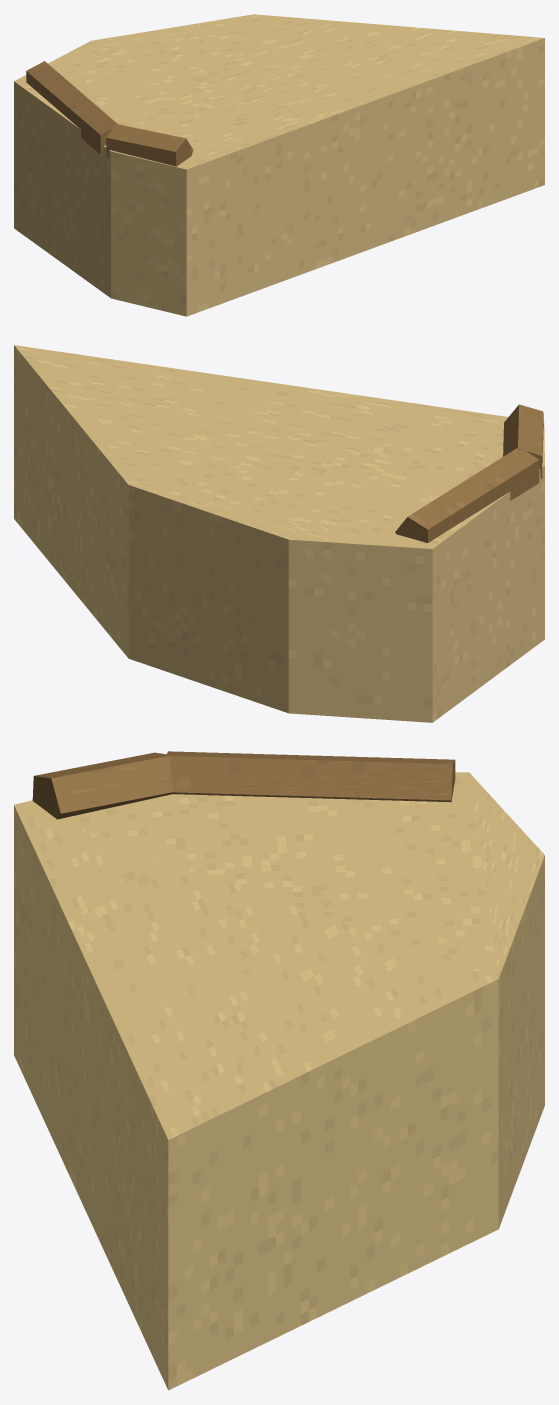
The model's file is pecorino_cheese.glb.
The picture shows the model from 3 angles, top to bottom: view 1: azimuth 30°, elevation 25°; view 2: azimuth 150°, elevation 25°; view 3: azimuth 270°, elevation 25°; orthographic projection. The views are drawn at different scales.
Visible parts, largest first — view 1: block_pecorino wedge, block_dark cheese rind 0, block_dark cheese rind 1; view 2: block_pecorino wedge, block_dark cheese rind 0, block_dark cheese rind 1; view 3: block_pecorino wedge, block_dark cheese rind 0, block_dark cheese rind 1.
Part boxes in pixels (<box>): block_pecorino wedge: <box>14,14,544,316</box>; block_dark cheese rind 0: <box>26,61,118,154</box>; block_dark cheese rind 1: <box>106,124,193,166</box>; block_pecorino wedge: <box>14,345,544,722</box>; block_dark cheese rind 0: <box>395,447,539,542</box>; block_dark cheese rind 1: <box>503,404,543,478</box>; block_pecorino wedge: <box>14,772,544,1390</box>; block_dark cheese rind 0: <box>166,751,455,802</box>; block_dark cheese rind 1: <box>32,752,173,819</box>.
Bounding box in the file's own units: 0.0756 × 0.0273 × 0.0459.
Materials: 1 (1 with a texture image).
